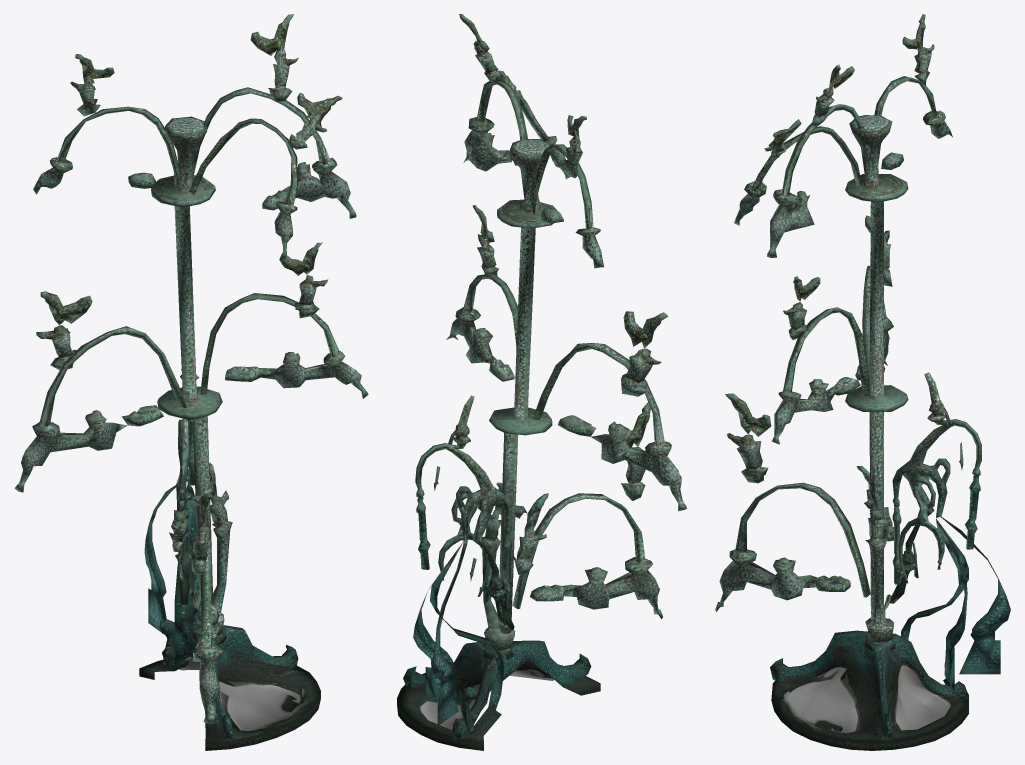
File: ruin-gate.glb
3 views of the same model, side by side, from view 1: azimuth 30°, elevation 25°; view 2: azimuth 150°, elevation 25°; view 3: azimuth 270°, elevation 25° (orthographic). The views are drawn at different scales.
Visible parts, largest first — view 1: tripo_node_d24071f8-ecd1-4b17-b3fe-3e2915a6db7d; view 2: tripo_node_d24071f8-ecd1-4b17-b3fe-3e2915a6db7d; view 3: tripo_node_d24071f8-ecd1-4b17-b3fe-3e2915a6db7d.
Part boxes in pixels (box(x1,y1,x2,y2)): tripo_node_d24071f8-ecd1-4b17-b3fe-3e2915a6db7d: box(14, 14, 368, 750); tripo_node_d24071f8-ecd1-4b17-b3fe-3e2915a6db7d: box(397, 14, 686, 750); tripo_node_d24071f8-ecd1-4b17-b3fe-3e2915a6db7d: box(715, 14, 1010, 750).
Bounding box in the file's own units: 0.4551 × 0.998 × 0.4004.
Materials: 1 (1 with a texture image).
